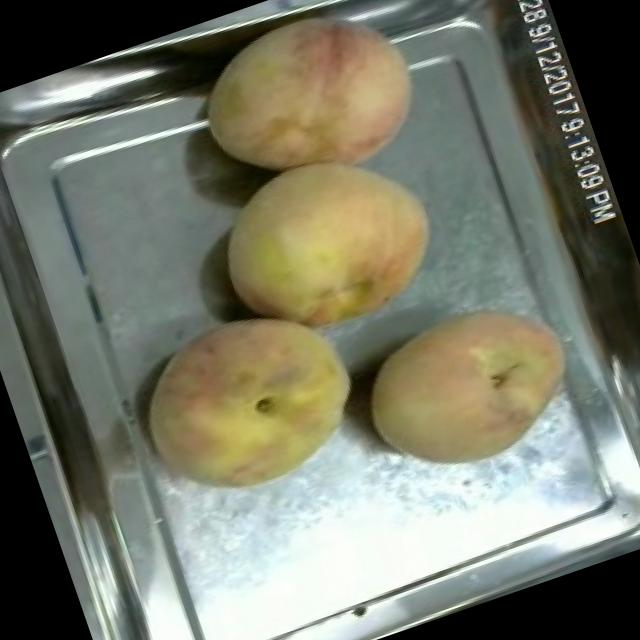Fruit: (192, 122, 464, 369), (114, 281, 382, 527), (339, 272, 604, 500), (171, 0, 445, 218)
